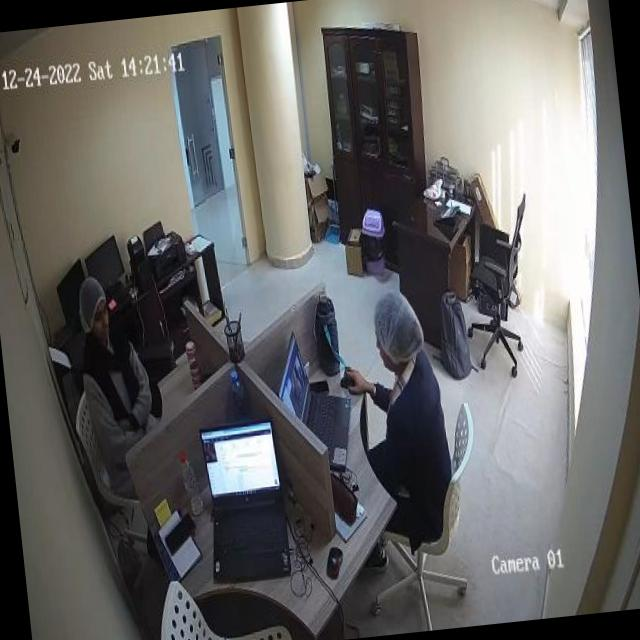hairnet: (372, 290, 426, 358), (75, 275, 108, 329)
